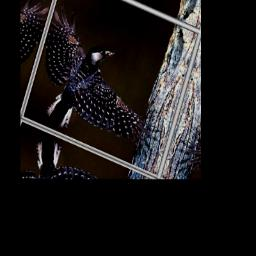Woodpecker: (24, 3, 178, 168)
